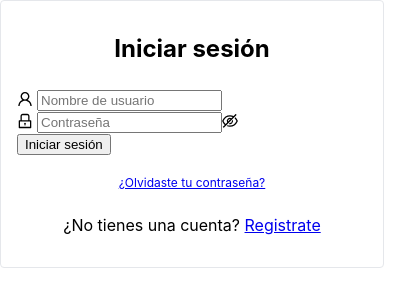
Test: Sign in form has validation errors › should have username validation errors
Type "Really long username that is longer than the max length of the field" into the field with placeholder "Nombre de usuario" at (130,101), box [37,90,222,111]
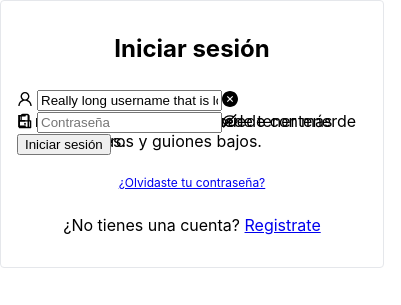
Clear the field with placeholder "Nombre de usuario" at (130,101), box [37,90,222,111]
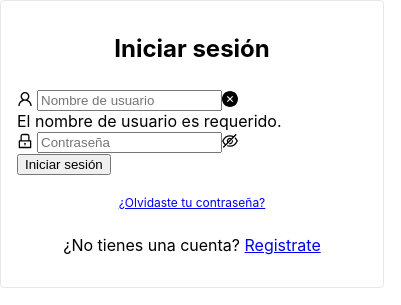
Now the text "El nombre de usuario es requerido." is shown, box [17,111,282,131]
